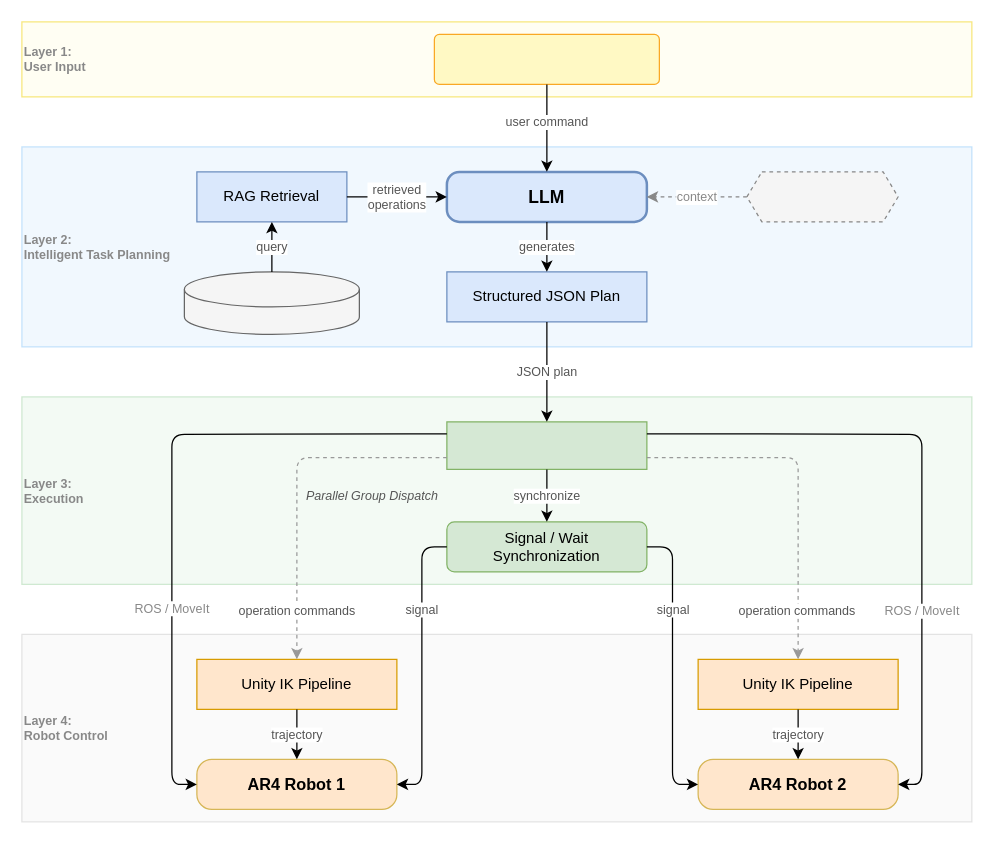
The diagram is 994 pixels wide and 844 high, and some of its shapes have lost their labels. Each missing label, with the centre of its shape:
Basic Operations Pool: (271,302)
Knowledge Graph: (822,196)
Natural Language Prompt "Pick up the red cube": (546,58)
Sequence Executor: (546,445)
